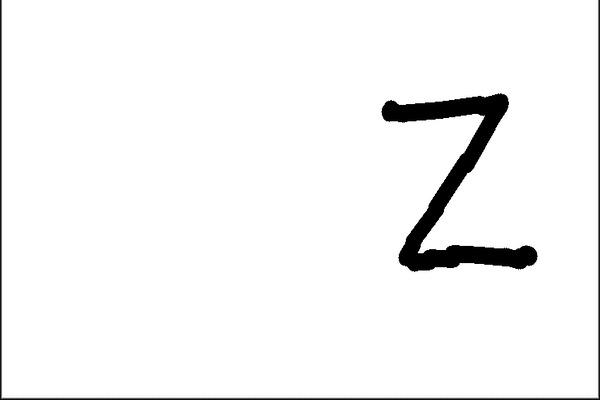Z: (371, 79, 541, 286)
